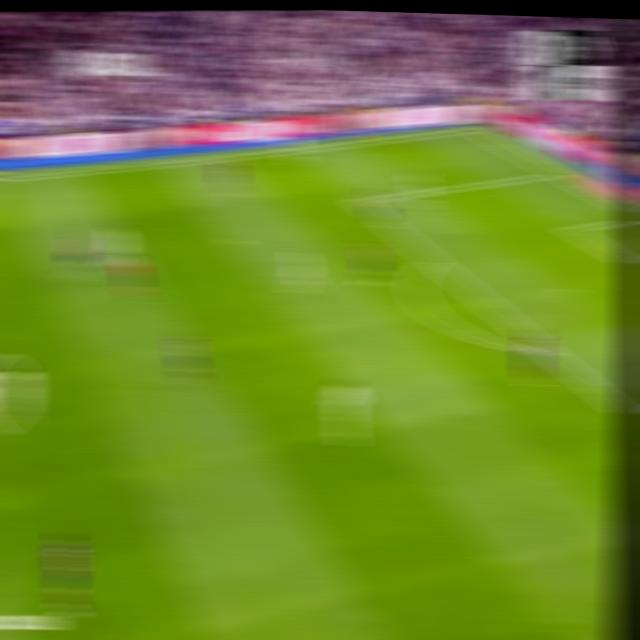bigarea_top_inner: (350, 192, 371, 207)
bigarea_top_outter: (545, 164, 566, 178)
bottom_arc_area_intersection: (535, 341, 559, 360)
corner: (462, 122, 486, 134)
smallarea_top_inner: (563, 222, 583, 235)
top_arc_area_intersection: (421, 249, 445, 268)
